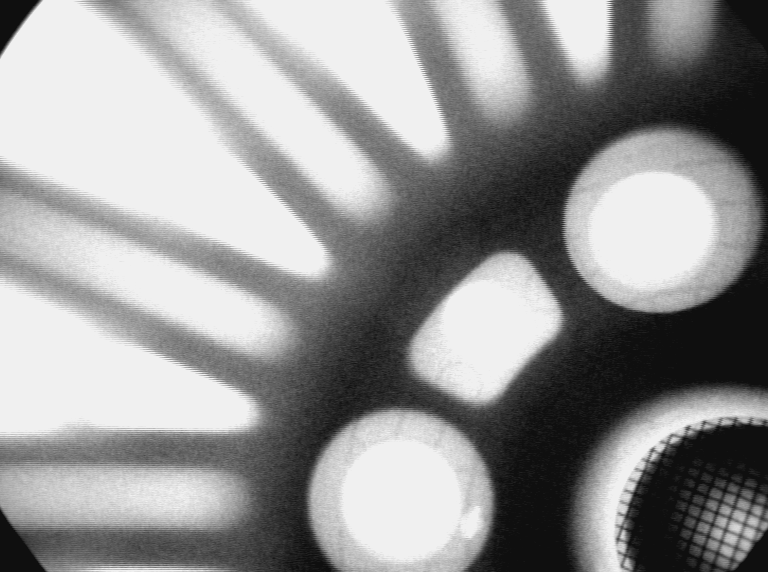defect: (456, 502, 489, 545)
